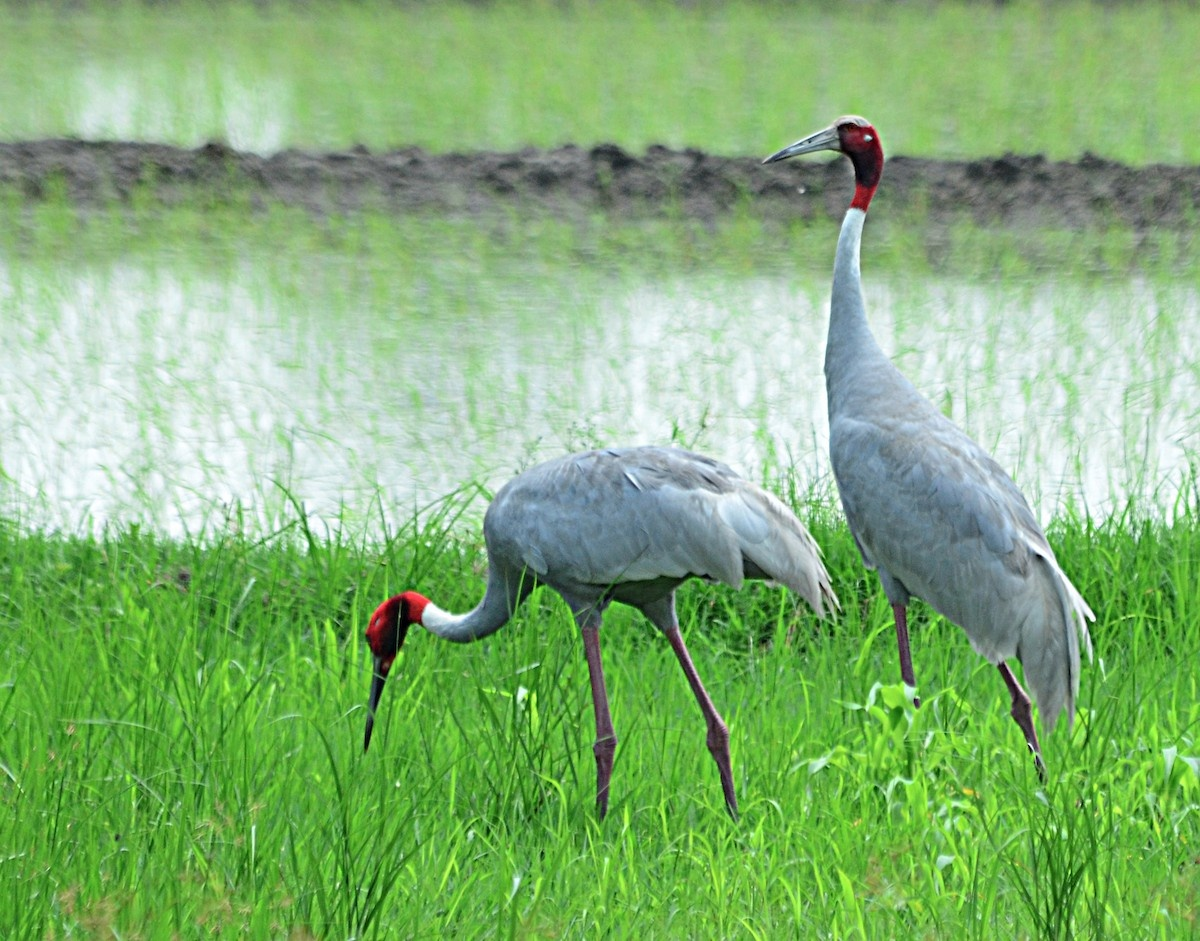crane: (759, 102, 1109, 775), (352, 435, 827, 823)
